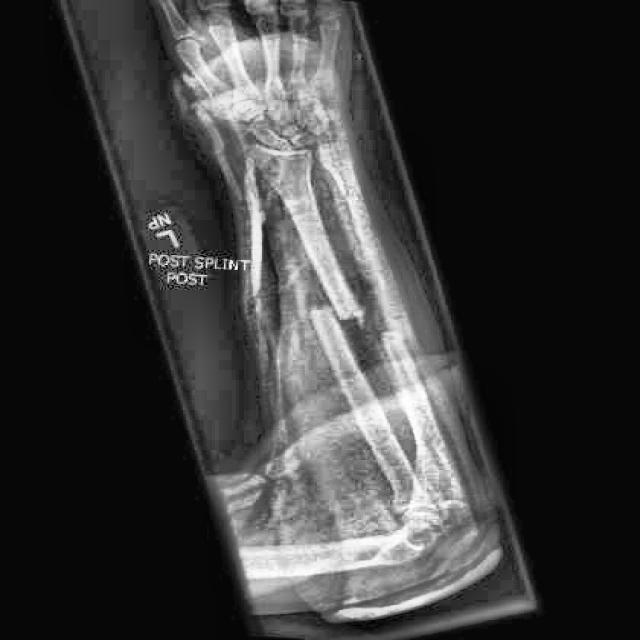forearm fracture: (293, 271, 375, 365)
